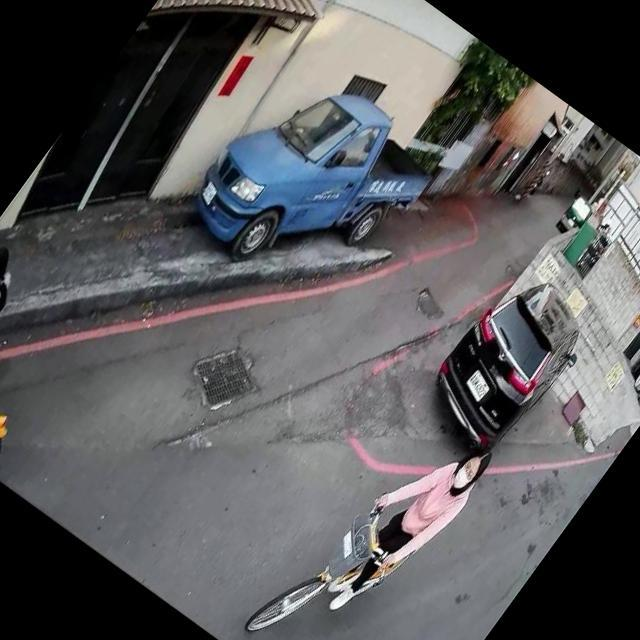person: (300, 404, 505, 640), (0, 237, 61, 441)
